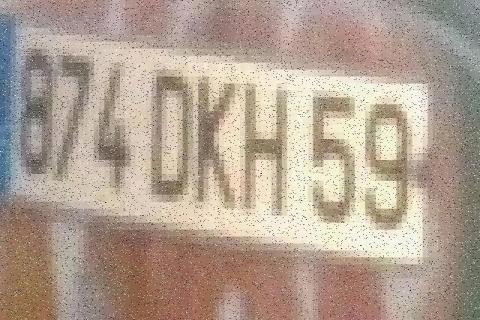LicensePlate: (0, 9, 432, 279)
